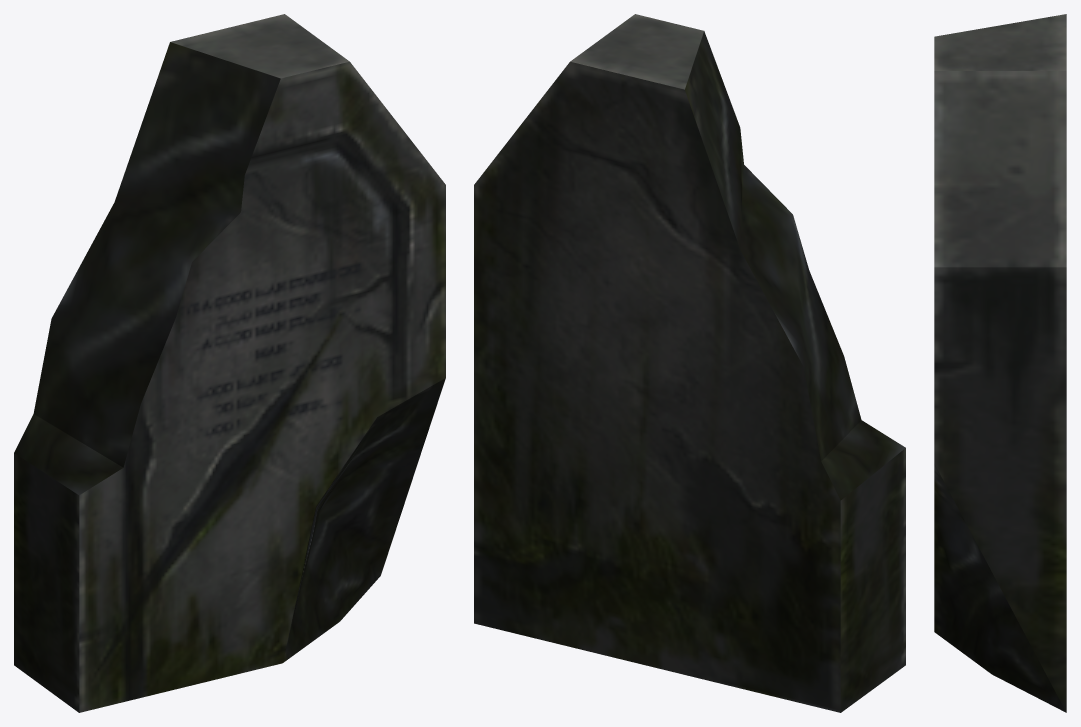
File: C_mubei002.fbx
The picture shows the model from 3 angles, left to right: view 1: azimuth 30°, elevation 25°; view 2: azimuth 150°, elevation 25°; view 3: azimuth 270°, elevation 25°; orthographic projection.
Visible parts, largest first — view 1: C_mubei002; view 2: C_mubei002; view 3: C_mubei002.
Boxes of the visible parts, x1,y1,x2,y2 form: C_mubei002: (14, 14, 445, 712); C_mubei002: (474, 14, 905, 712); C_mubei002: (934, 14, 1066, 712).
Size of the model in its own units: 68.72 by 105 by 21.14.
